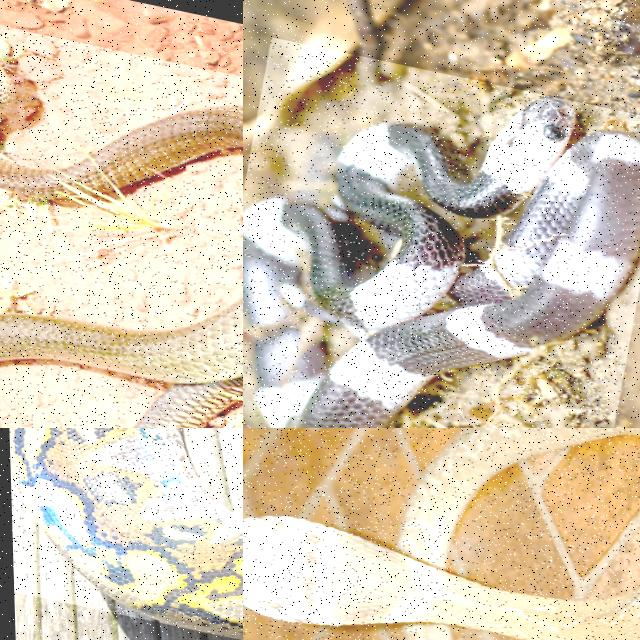Bungarus candidus: (243, 97, 639, 427)
Malayopython reticulatus: (11, 428, 242, 637)
Naja kaouthia: (243, 428, 639, 639), (0, 300, 242, 427)
snake: (243, 97, 639, 427), (243, 428, 639, 639), (11, 428, 242, 637), (0, 300, 242, 427)
